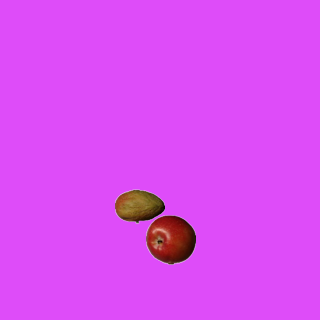Apple Braeburn: (145, 214, 195, 264)
Papaya: (114, 181, 164, 231)
